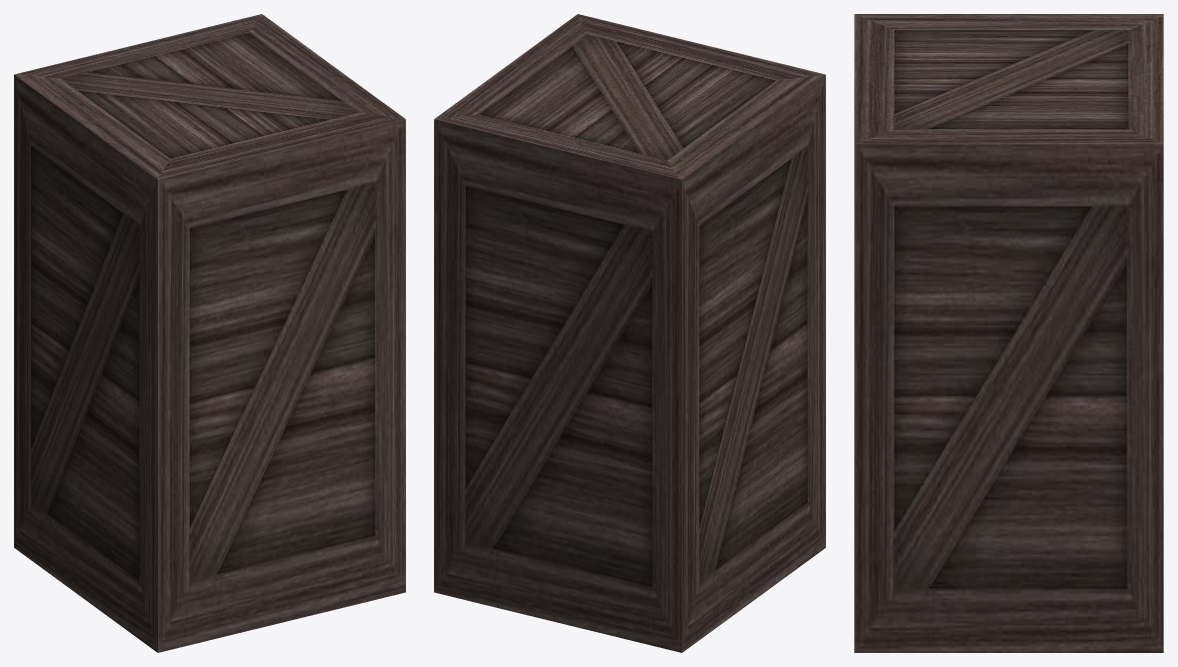
The model's file is breakableCrate.fbx.
3 renders of one model, left to right at view 1: azimuth 30°, elevation 25°; view 2: azimuth 150°, elevation 25°; view 3: azimuth 270°, elevation 25°, orthographic. The views are drawn at different scales.
Parts seen in each view (by area): view 1: Cube.023, Cube.024, Cube.026, Cube.020, Cube.022, Cube.025, Cube.019, Cube.021, Cube.018, Cube.031, Cube.027, Cube.028 (+2 smaller); view 2: Cube.017, Cube.014, Cube.020, Cube.022, Cube.016, Cube.019, Cube.021, Cube.018, Cube.031, Cube.027, Cube.028, Cube.029 (+1 smaller); view 3: Cube.013, Cube.012, Cube.015, Cube.031, Cube.027, Cube.028, Cube.029, Cube.030.
Boxes of the visible parts, x1=… form: Cube.023: x1=158, y1=388, x2=405, y2=652; Cube.024: x1=158, y1=228, x2=405, y2=483; Cube.026: x1=158, y1=119, x2=405, y2=386; Cube.020: x1=14, y1=186, x2=157, y2=462; Cube.022: x1=14, y1=463, x2=157, y2=652; Cube.025: x1=305, y1=119, x2=405, y2=483; Cube.019: x1=14, y1=331, x2=157, y2=481; Cube.021: x1=14, y1=75, x2=157, y2=204; Cube.018: x1=14, y1=205, x2=83, y2=481; Cube.031: x1=216, y1=14, x2=405, y2=130; Cube.027: x1=158, y1=88, x2=359, y2=179; Cube.028: x1=99, y1=54, x2=215, y2=179; Cube.017: x1=434, y1=180, x2=681, y2=652; Cube.014: x1=434, y1=180, x2=681, y2=591; Cube.020: x1=682, y1=81, x2=825, y2=357; Cube.022: x1=682, y1=358, x2=825, y2=652; Cube.016: x1=434, y1=119, x2=681, y2=240; Cube.019: x1=682, y1=333, x2=825, y2=586; Cube.021: x1=682, y1=75, x2=825, y2=309; Cube.018: x1=682, y1=310, x2=751, y2=586; Cube.031: x1=434, y1=14, x2=623, y2=119; Cube.027: x1=609, y1=25, x2=825, y2=99; Cube.028: x1=597, y1=74, x2=824, y2=158; Cube.029: x1=597, y1=75, x2=824, y2=179; Cube.013: x1=854, y1=145, x2=1163, y2=652; Cube.012: x1=854, y1=144, x2=1162, y2=652; Cube.015: x1=967, y1=144, x2=1163, y2=293; Cube.031: x1=854, y1=86, x2=1163, y2=144; Cube.027: x1=854, y1=14, x2=1024, y2=119; Cube.028: x1=855, y1=14, x2=1162, y2=85; Cube.029: x1=855, y1=14, x2=1163, y2=58; Cube.030: x1=1026, y1=58, x2=1163, y2=143.
Size of the model in its own units: 0.5015 by 0.9139 by 0.5036.
